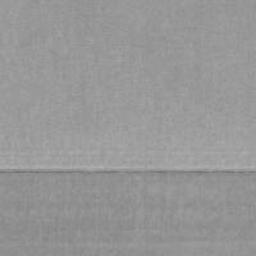Welding line: (0, 168, 256, 177)
